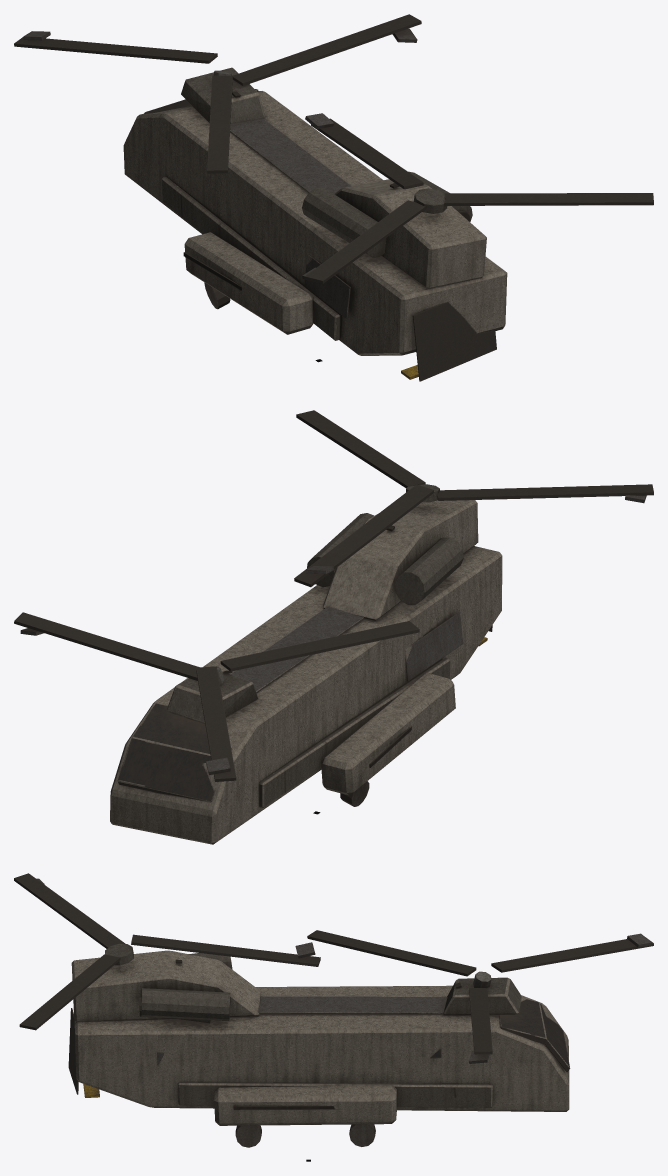
Rendered from ord_ark_wreck.fbx.
The picture shows the model from 3 angles, top to bottom: view 1: azimuth 30°, elevation 25°; view 2: azimuth 150°, elevation 25°; view 3: azimuth 270°, elevation 25°; orthographic projection. The views are drawn at different scales.
Visible parts, largest first — view 1: base_bar, tailRotor_bar, rotor_bar; view 2: base_bar, rotor_bar, tailRotor_bar; view 3: base_bar, tailRotor_bar, rotor_bar.
Part boxes in pixels (left/top/right/bottom): base_bar: left=123, top=67, right=507, bottom=381; tailRotor_bar: left=302, top=113, right=653, bottom=283; rotor_bar: left=14, top=14, right=421, bottom=173; base_bar: left=110, top=500, right=502, bottom=844; rotor_bar: left=14, top=612, right=419, bottom=781; tailRotor_bar: left=294, top=410, right=653, bottom=587; base_bar: left=68, top=950, right=570, bottom=1147; tailRotor_bar: left=14, top=873, right=320, bottom=1030; rotor_bar: left=307, top=930, right=653, bottom=1063.
Size of the model in its own units: 1540 by 994 by 2627.
2 materials, 2 textured.
